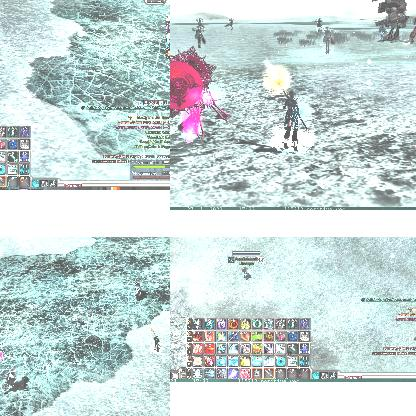caliana: (0, 367, 24, 393), (322, 28, 334, 54), (132, 280, 146, 301), (193, 26, 202, 48), (314, 18, 322, 32), (226, 18, 234, 30), (196, 19, 204, 25)
